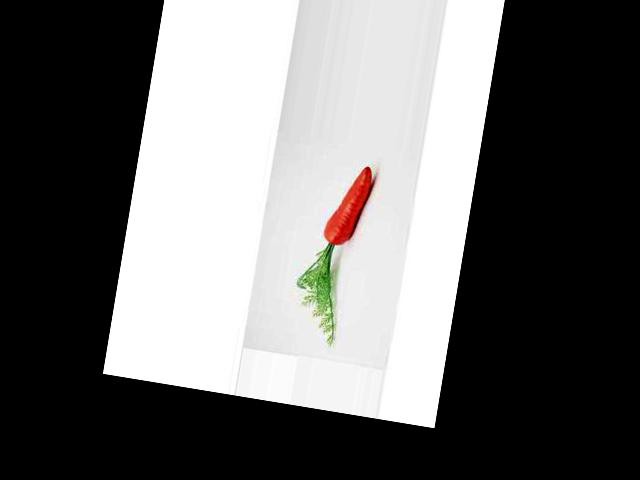carrot: (317, 156, 387, 255)
